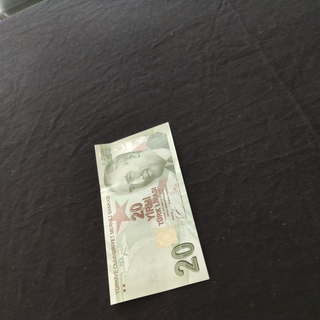20TLFront: (93, 121, 210, 306)
